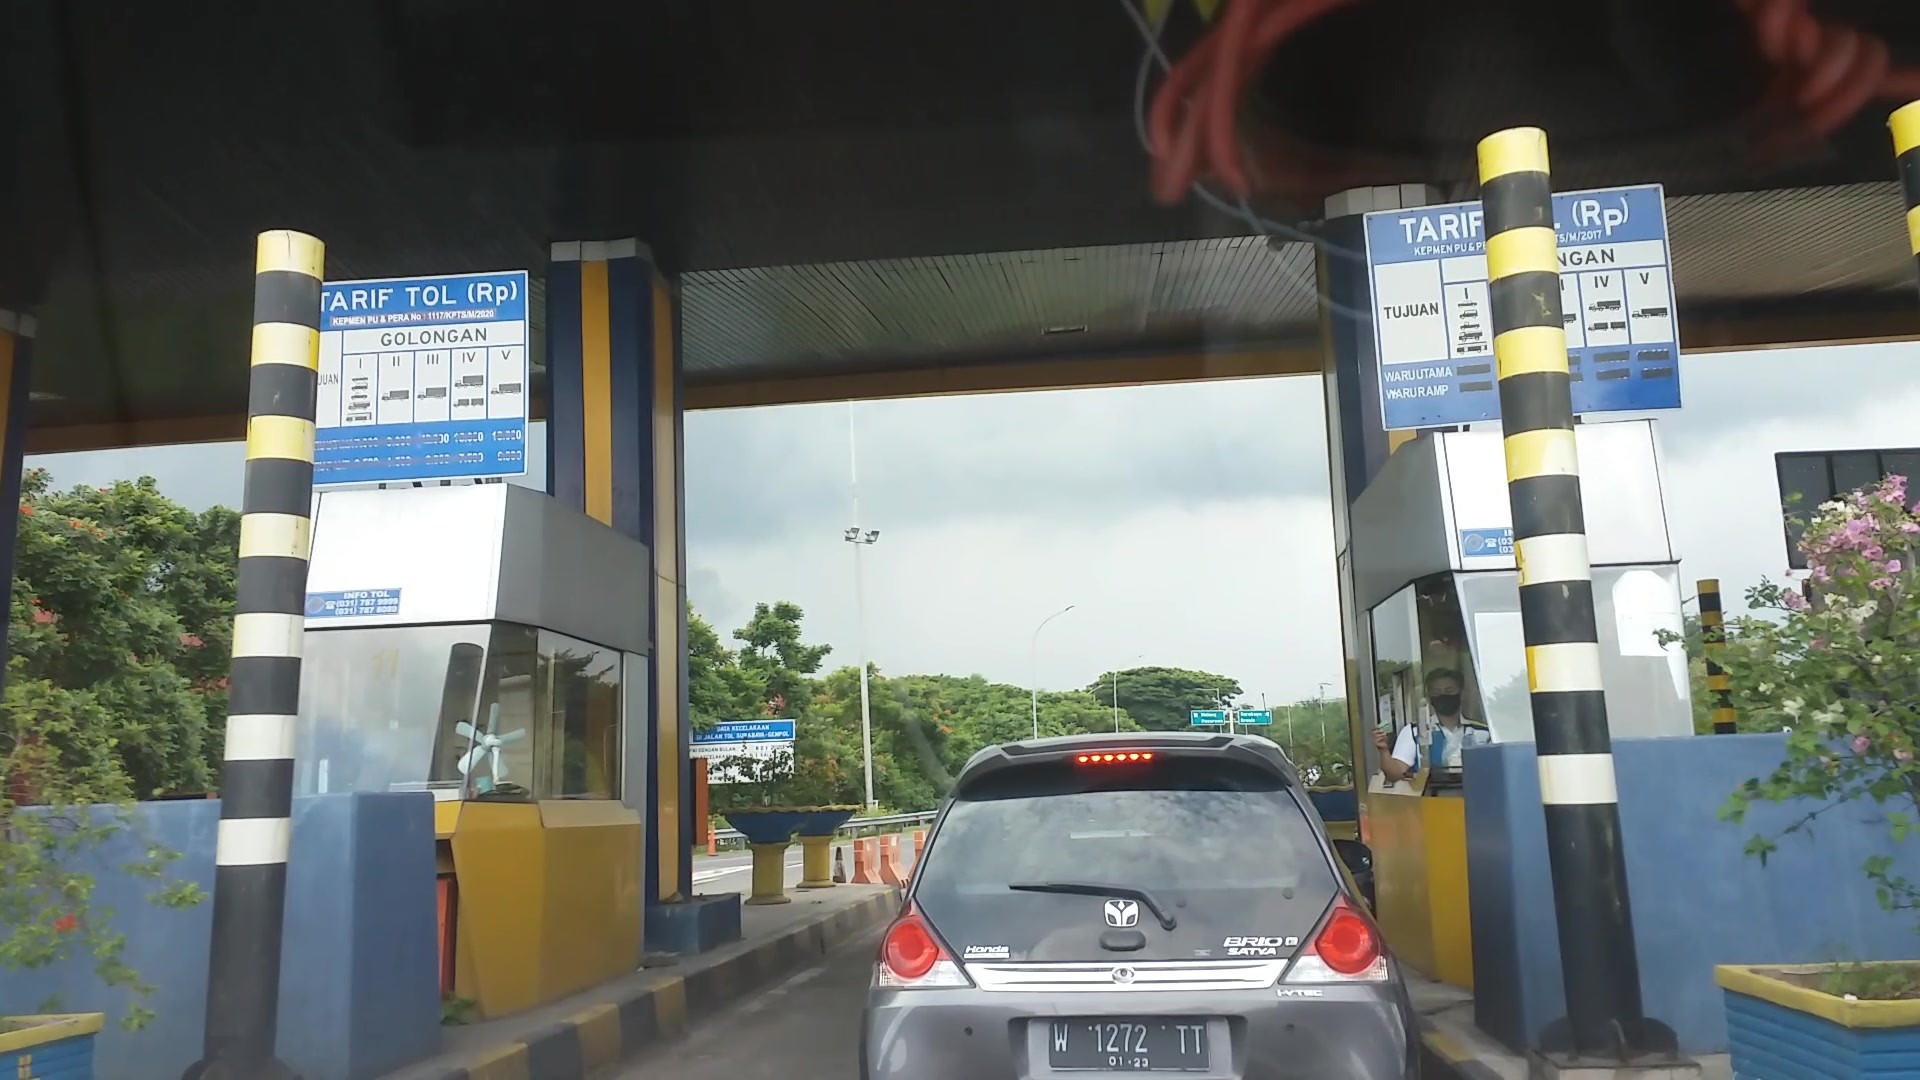plate_positive: (1048, 1018, 1207, 1072)
